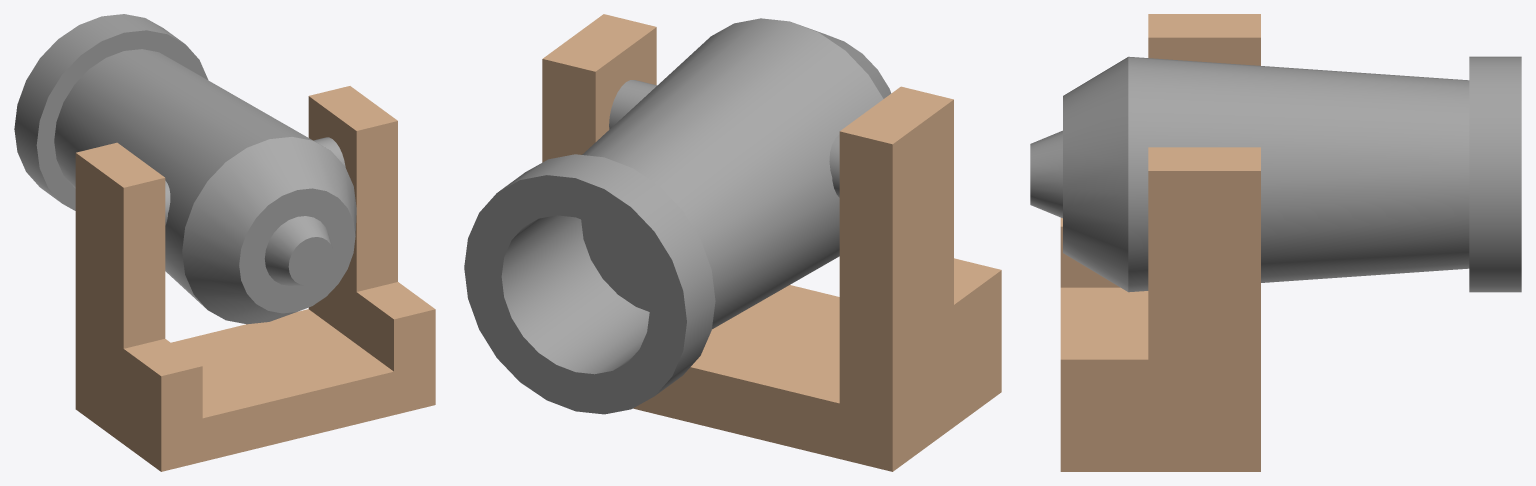
Rendered from cannon.glb.
The picture shows the model from 3 angles, left to right: view 1: azimuth 30°, elevation 25°; view 2: azimuth 150°, elevation 25°; view 3: azimuth 270°, elevation 25°; orthographic projection. The views are drawn at different scales.
Parts seen in each view (by area): view 1: cannon, barrel; view 2: barrel, cannon; view 3: barrel, cannon.
Part boxes in pixels (x1=…): cannon: x1=75, y1=86, x2=435, y2=471; barrel: x1=14, y1=14, x2=356, y2=324; barrel: x1=464, y1=18, x2=891, y2=414; cannon: x1=542, y1=14, x2=1001, y2=471; barrel: x1=1030, y1=56, x2=1521, y2=292; cannon: x1=1060, y1=14, x2=1260, y2=471.
Bounding box in the file's own units: 0.4345 × 0.4208 × 0.5748.
